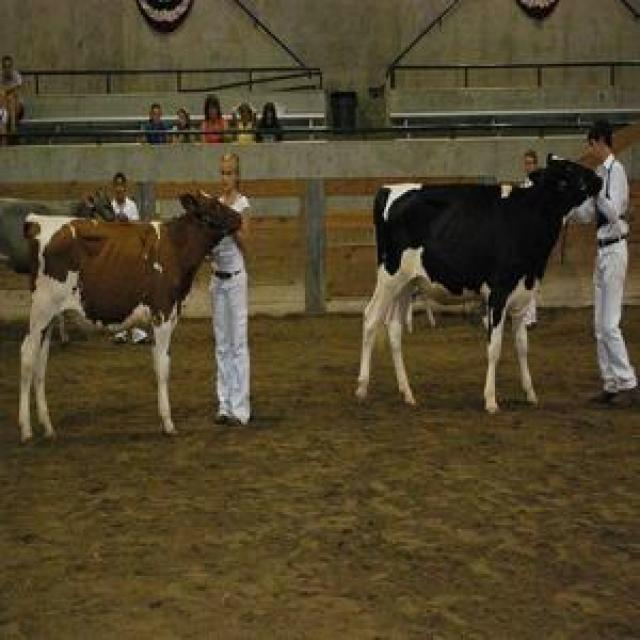cow: (358, 161, 601, 412), (19, 194, 241, 442)
